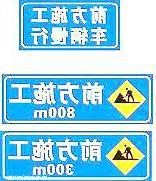sign: (4, 76, 151, 123), (2, 133, 150, 179), (21, 2, 118, 48)
